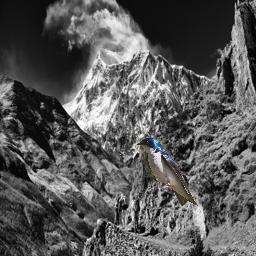Swallow: (136, 137, 199, 207)
